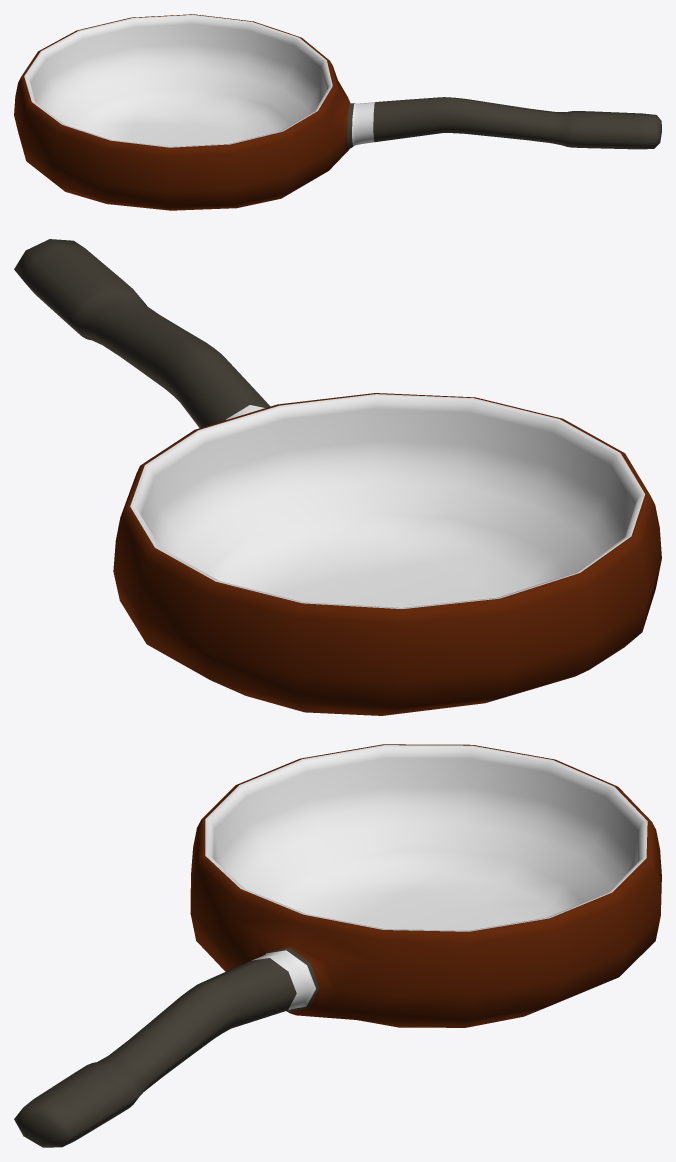
The model's file is pan.glb.
3 views of the same model, one above another, from view 1: azimuth 30°, elevation 25°; view 2: azimuth 150°, elevation 25°; view 3: azimuth 270°, elevation 25° (orthographic). The views are drawn at different scales.
Parts seen in each view (by area): view 1: Pan; view 2: Pan; view 3: Pan.
Boxes of the visible parts, x1,y1,x2,y2 form: Pan: [14, 14, 661, 210]; Pan: [14, 239, 661, 715]; Pan: [14, 744, 661, 1147].
Bounding box in the file's own units: 0.5101 × 0.0767 × 0.4038.
